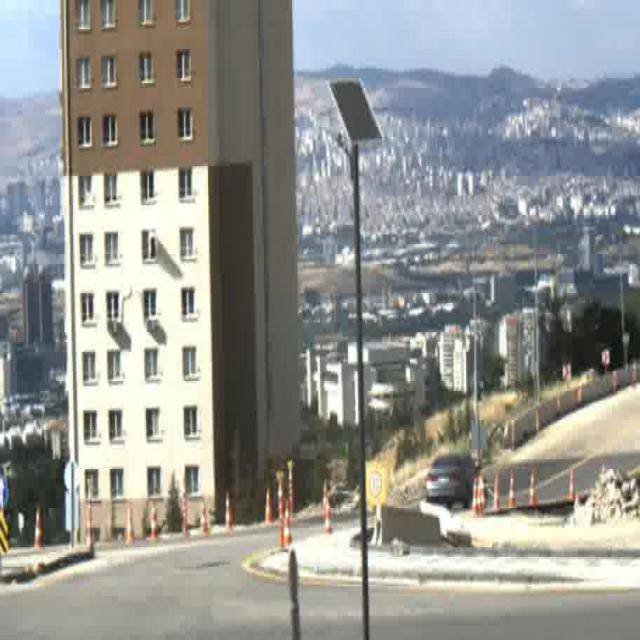Car: (428, 452, 483, 508)
